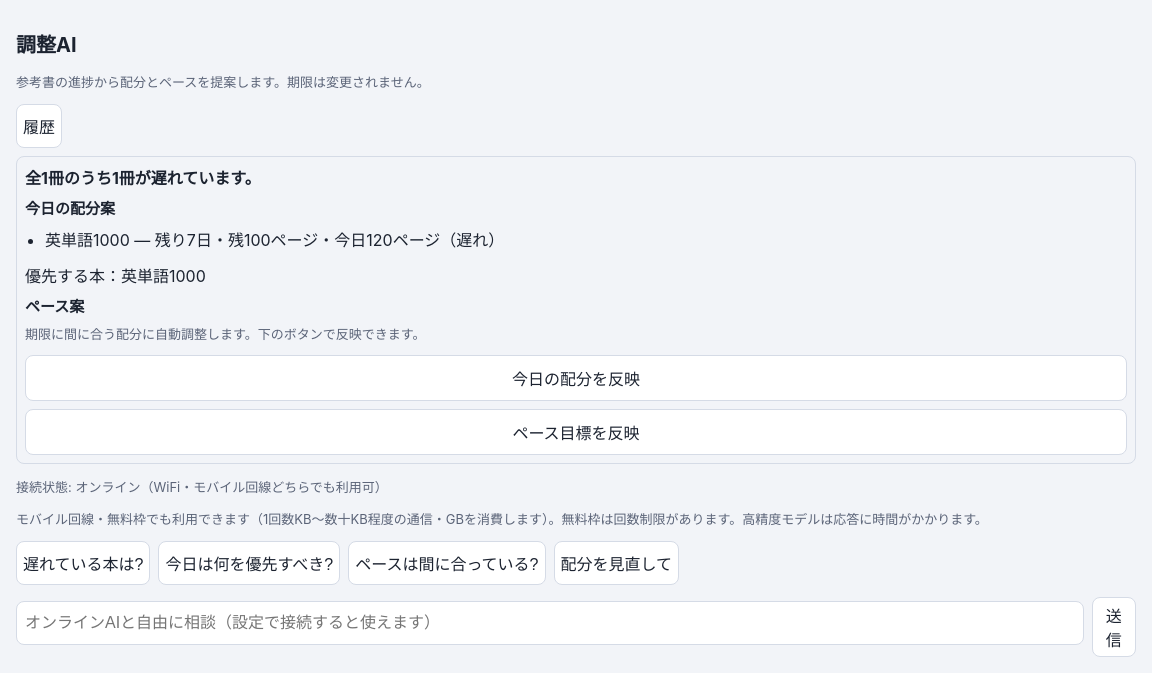
Test: ChatScreen › shows a timeout-specific message with retry
The width and height of the screenshot is (1152, 673).
Expected: the text "全1冊のうち1冊が遅れています。" is shown, x1=25 y1=168 x2=261 y2=188
Type "こんにちは" into the field with test id "chat-input" at (550, 623), box x1=16 y1=601 x2=1084 y2=645
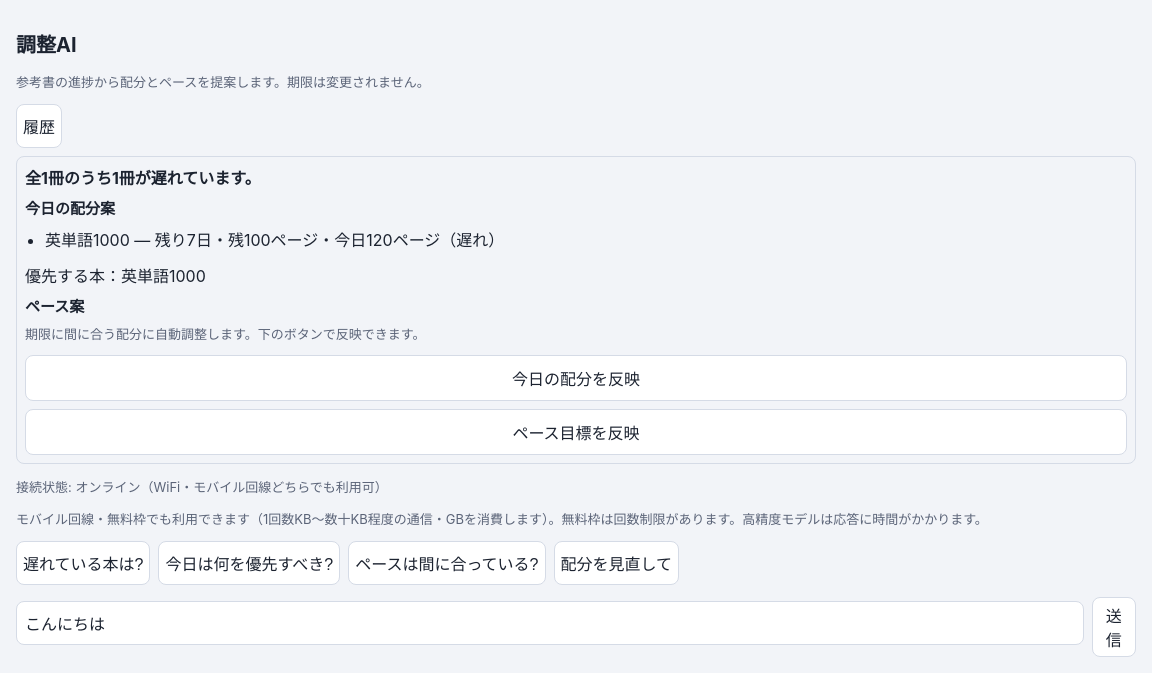
Click the button with test id "chat-send" at (1114, 627), box x1=1092 y1=597 x2=1136 y2=657
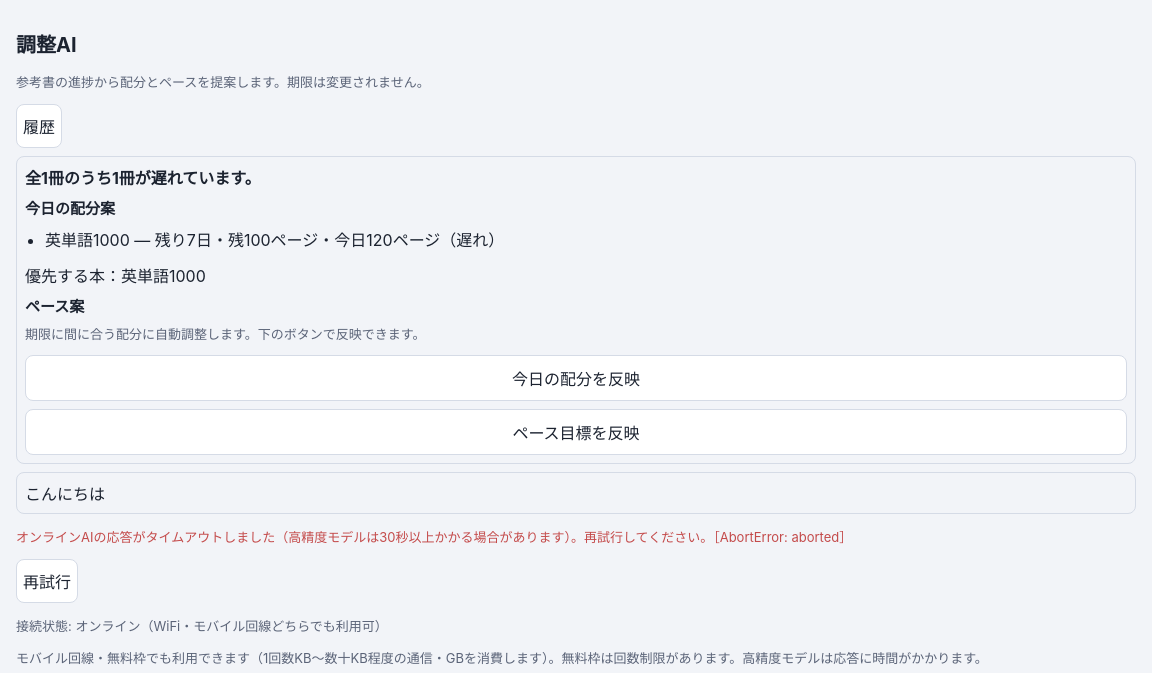
Expected: the text with test id "chat-error" shows "タイムアウト", x1=16 y1=529 x2=713 y2=545
Expected: the button with test id "chat-retry" is shown, x1=16 y1=559 x2=78 y2=603
